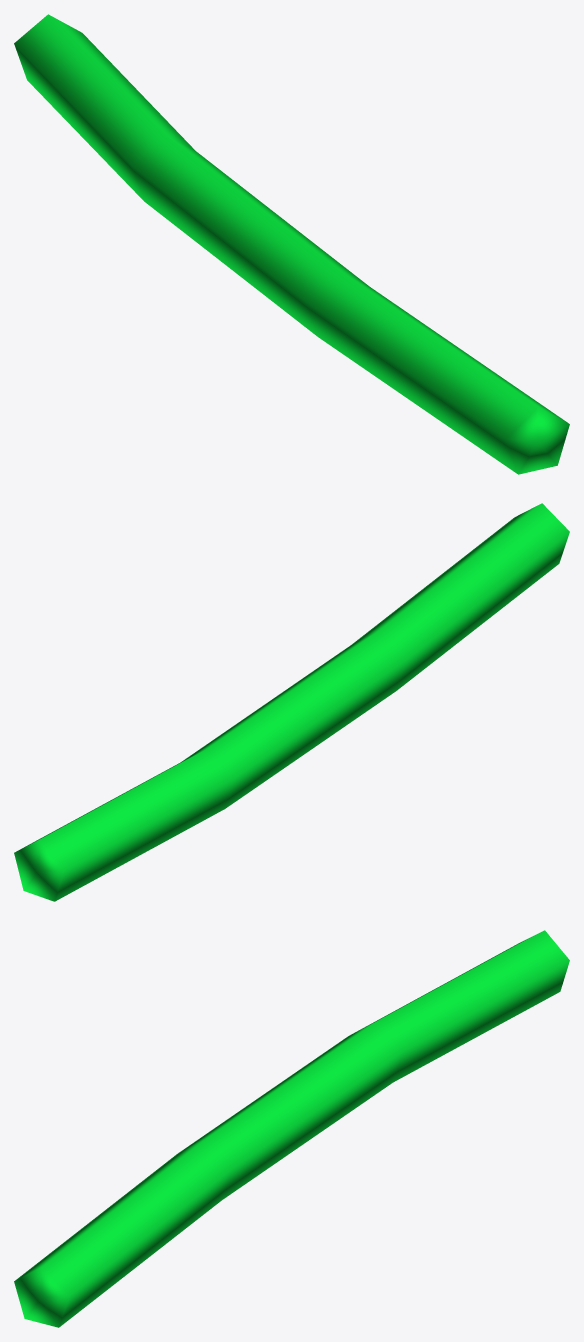
The model's file is Pipe_Turn_C_Ext.fbx.
3 renders of one model, top to bottom at view 1: azimuth 30°, elevation 25°; view 2: azimuth 150°, elevation 25°; view 3: azimuth 330°, elevation 25°, orthographic. The views are drawn at different scales.
Parts seen in each view (by area): view 1: Pipe_Turn_C_Ext; view 2: Pipe_Turn_C_Ext; view 3: Pipe_Turn_C_Ext.
Boxes of the visible parts, bbox=[...] form: Pipe_Turn_C_Ext: bbox=[14, 14, 569, 474]; Pipe_Turn_C_Ext: bbox=[14, 503, 569, 901]; Pipe_Turn_C_Ext: bbox=[14, 930, 569, 1327].
Size of the model in its own units: 0.3643 by 0.2028 by 3.11.
